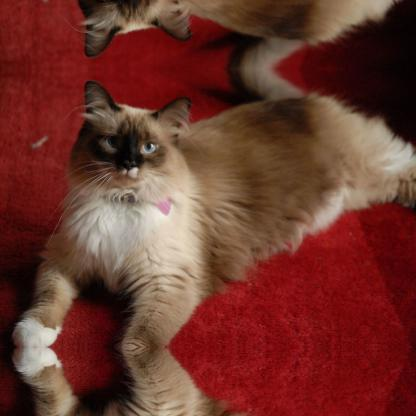Cat: (9, 81, 415, 345), (9, 347, 416, 415), (9, 0, 416, 56)
